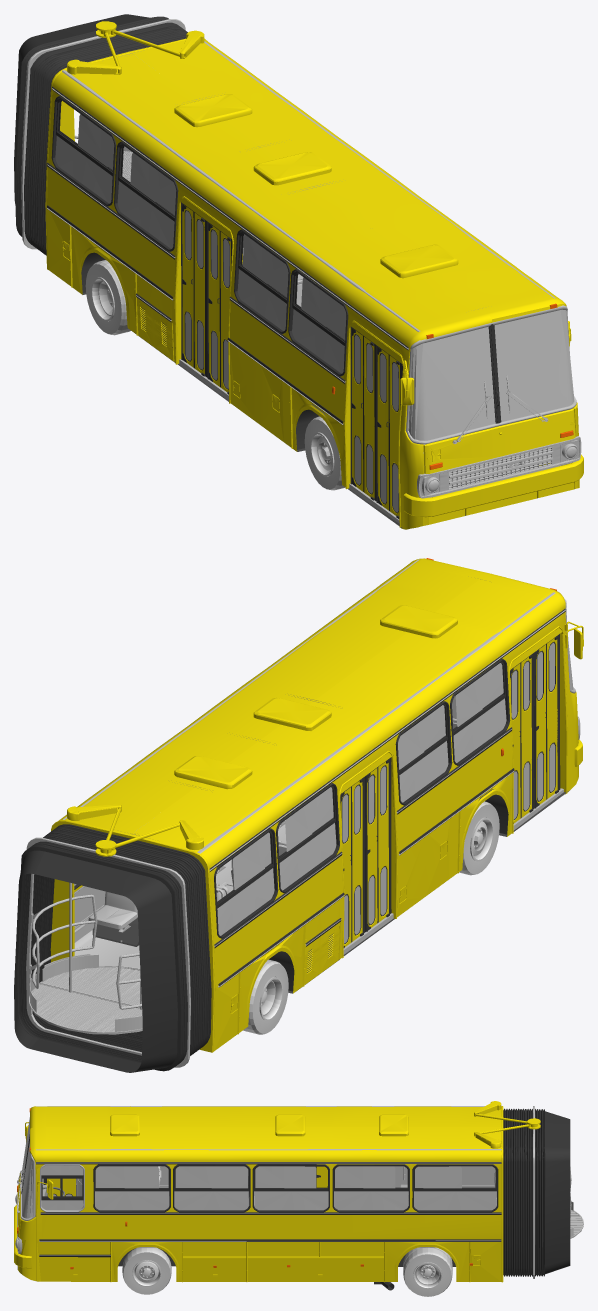
The model's file is Bus.FBX.
The picture shows the model from 3 angles, top to bottom: view 1: azimuth 30°, elevation 25°; view 2: azimuth 150°, elevation 25°; view 3: azimuth 270°, elevation 25°; orthographic projection. The views are drawn at different scales.
Parts seen in each view (by area): view 1: Body, Windows, Interior, Connector, Middle Door 2, Middle Door 003, Middle Door 004, Front Bumper, Middle Door 1, Wheel_RR, Wheel_FR, Buttom; view 2: Body, Interior, Connector, Windows, Middle Door 1, Middle Door 004, Middle Door 2, Middle Door 003, Wheel_RR, Buttom, Wheel_FR; view 3: Body, Windows, Interior, Connector, Wheel_RL, Wheel_FL, Middle Door 004, Front Bumper.
Part boxes in pixels (bbox=[...]): Body: bbox=[45, 21, 581, 529]; Windows: bbox=[55, 114, 574, 440]; Interior: bbox=[21, 19, 576, 523]; Connector: bbox=[14, 14, 187, 255]; Middle Door 2: bbox=[181, 202, 207, 377]; Middle Door 003: bbox=[350, 326, 376, 501]; Middle Door 004: bbox=[376, 345, 402, 518]; Front Bumper: bbox=[403, 454, 583, 517]; Middle Door 1: bbox=[207, 221, 232, 394]; Wheel_RR: bbox=[85, 260, 131, 335]; Wheel_FR: bbox=[304, 416, 345, 490]; Buttom: bbox=[81, 234, 574, 528]; Body: bbox=[50, 558, 583, 1052]; Interior: bbox=[26, 559, 575, 1067]; Connector: bbox=[14, 824, 211, 1072]; Windows: bbox=[74, 633, 573, 935]; Middle Door 1: bbox=[365, 757, 391, 931]; Middle Door 004: bbox=[534, 634, 560, 808]; Middle Door 2: bbox=[340, 776, 365, 947]; Middle Door 003: bbox=[510, 653, 534, 823]; Wheel_RR: bbox=[243, 959, 288, 1034]; Buttom: bbox=[92, 789, 569, 993]; Wheel_FR: bbox=[459, 801, 499, 875]; Body: bbox=[16, 1101, 540, 1282]; Windows: bbox=[22, 1117, 496, 1218]; Interior: bbox=[17, 1106, 583, 1278]; Connector: bbox=[503, 1108, 570, 1276]; Wheel_RL: bbox=[403, 1247, 452, 1296]; Wheel_FL: bbox=[122, 1247, 171, 1294]; Middle Door 004: bbox=[43, 1178, 76, 1196]; Front Bumper: bbox=[14, 1205, 31, 1268].
Bounding box in the file's own units: 7.58 × 8.86 × 30.76.
